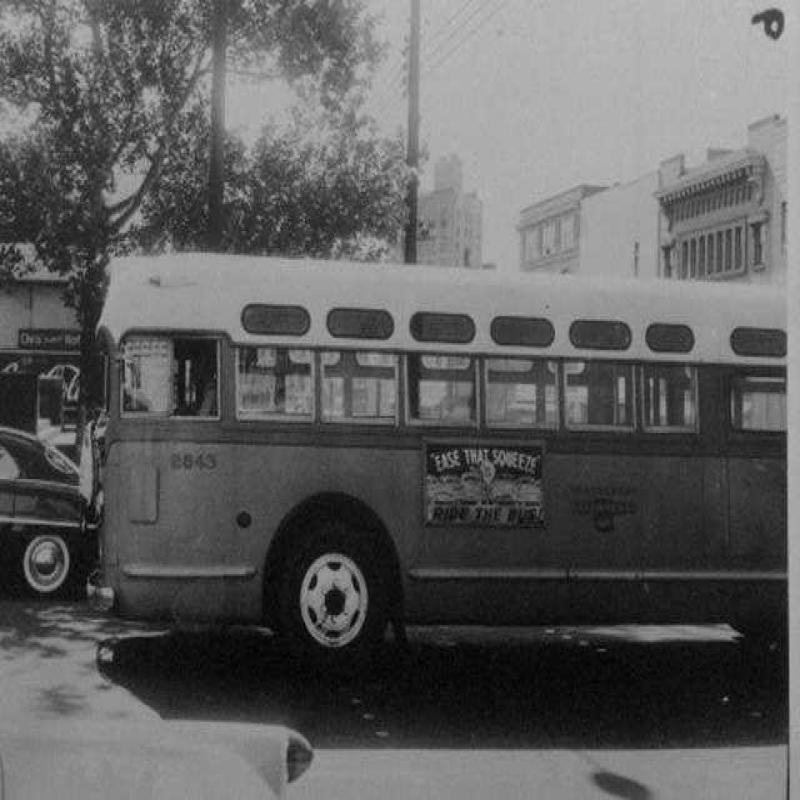bus: (74, 196, 800, 673)
